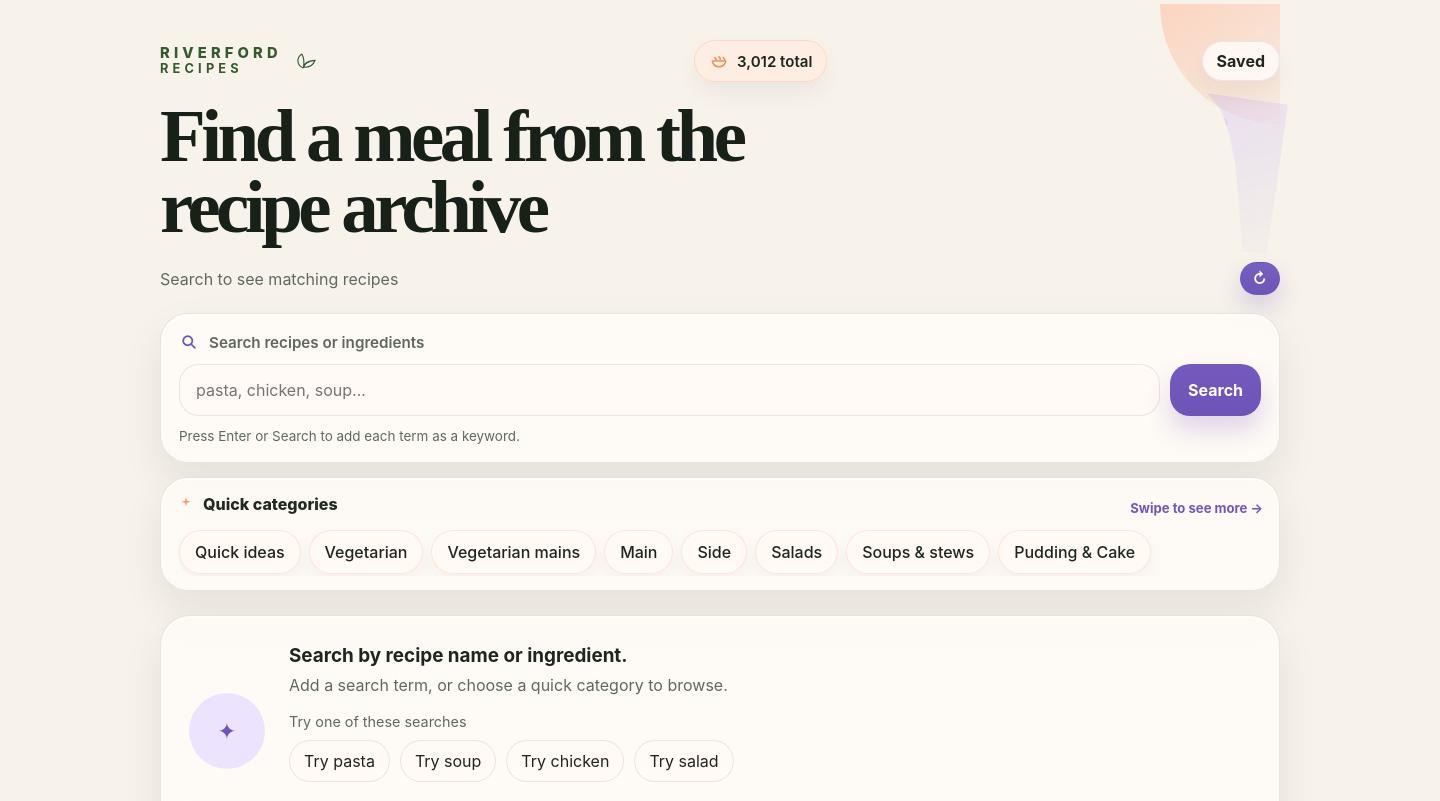
App › keeps total indexed pill bound to status total after search results load
Expected: the text "3,012 total" is shown, left=694, top=40, right=827, bottom=82
Type "pasta" into the field labelled "Search" at [670, 390], box left=179, top=364, right=1160, bottom=416
Then press Enter
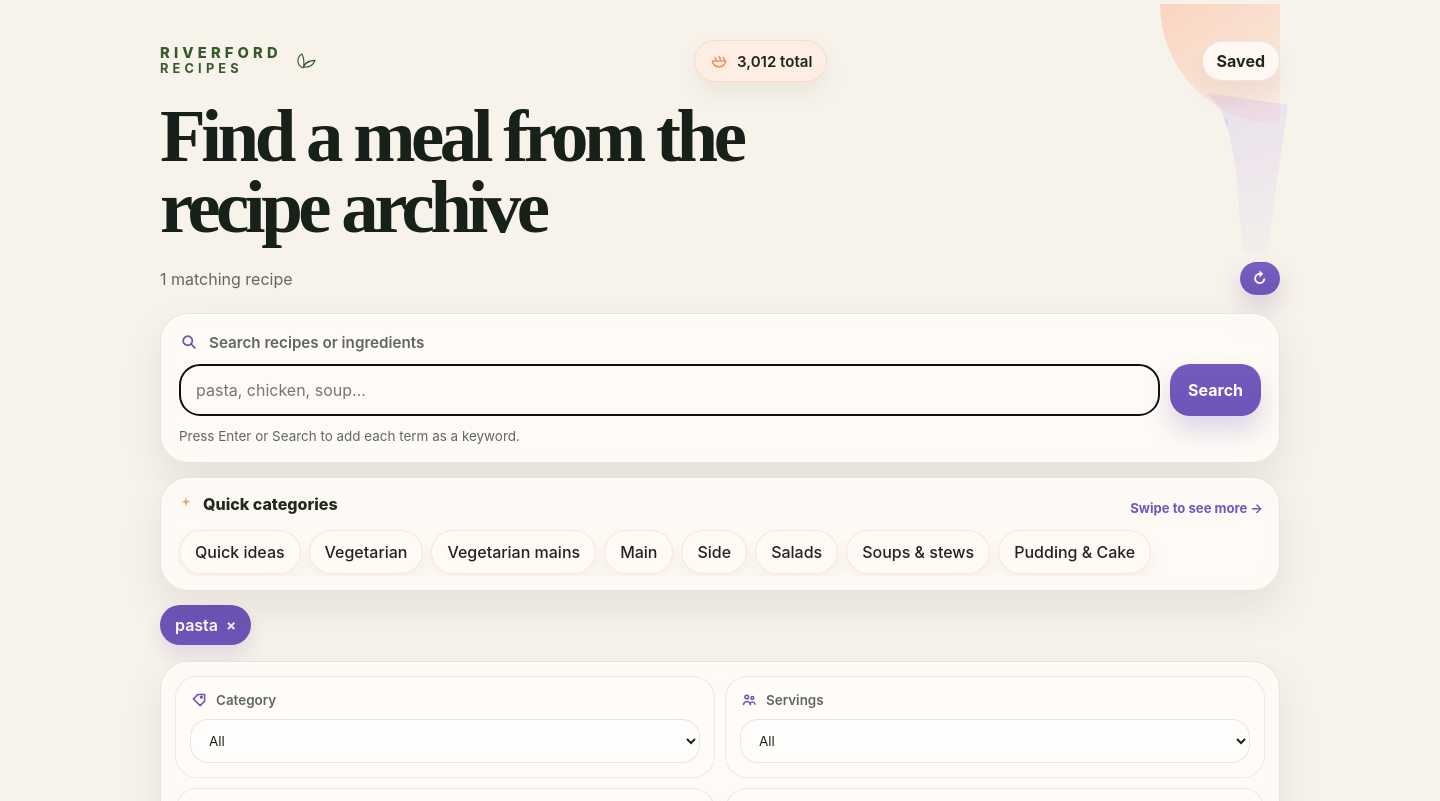
Expected: the text "3,012 total" is shown, left=694, top=40, right=827, bottom=82
Now the text "1 matching recipe" is shown, box left=160, top=269, right=293, bottom=289
